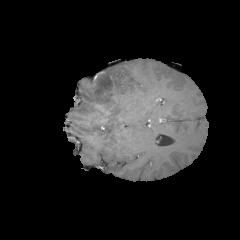glioma: (75, 73, 122, 130)
